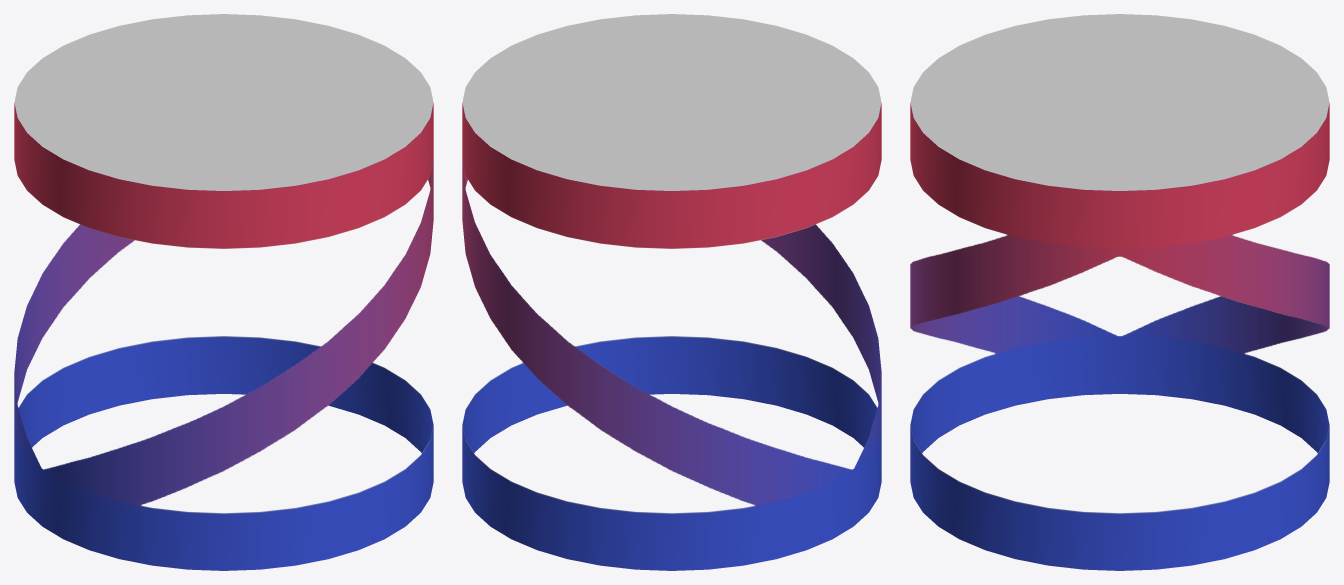
The picture shows the model from 3 angles, left to right: view 1: azimuth 30°, elevation 25°; view 2: azimuth 150°, elevation 25°; view 3: azimuth 270°, elevation 25°; orthographic projection.
Parts seen in each view (by area): view 1: Cylinder; view 2: Cylinder; view 3: Cylinder.
Part boxes in pixels (<box>): Cylinder: <box>14,14,433,570</box>; Cylinder: <box>462,14,881,570</box>; Cylinder: <box>910,14,1329,570</box>.
Bounding box in the file's own units: 1 × 1 × 1.
Materials: 3 (3 with a texture image).
